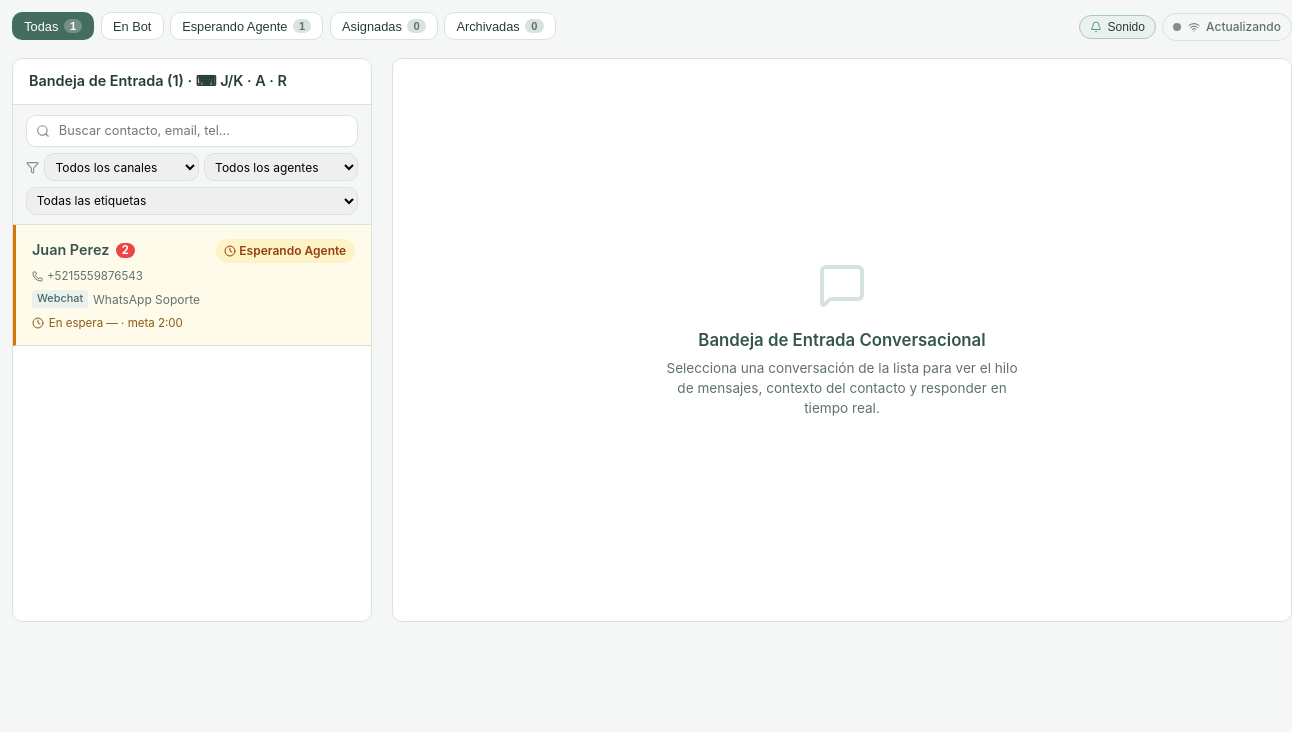
Test: ConversationsView Inbox Sound & Notification Controls › renders the sound toggle button in the inbox top bar and toggles mute state
# Click to mute
Click the button with test id "inbox-sound-toggle-btn".
click(1117, 27)  # box [1079,15,1156,39]
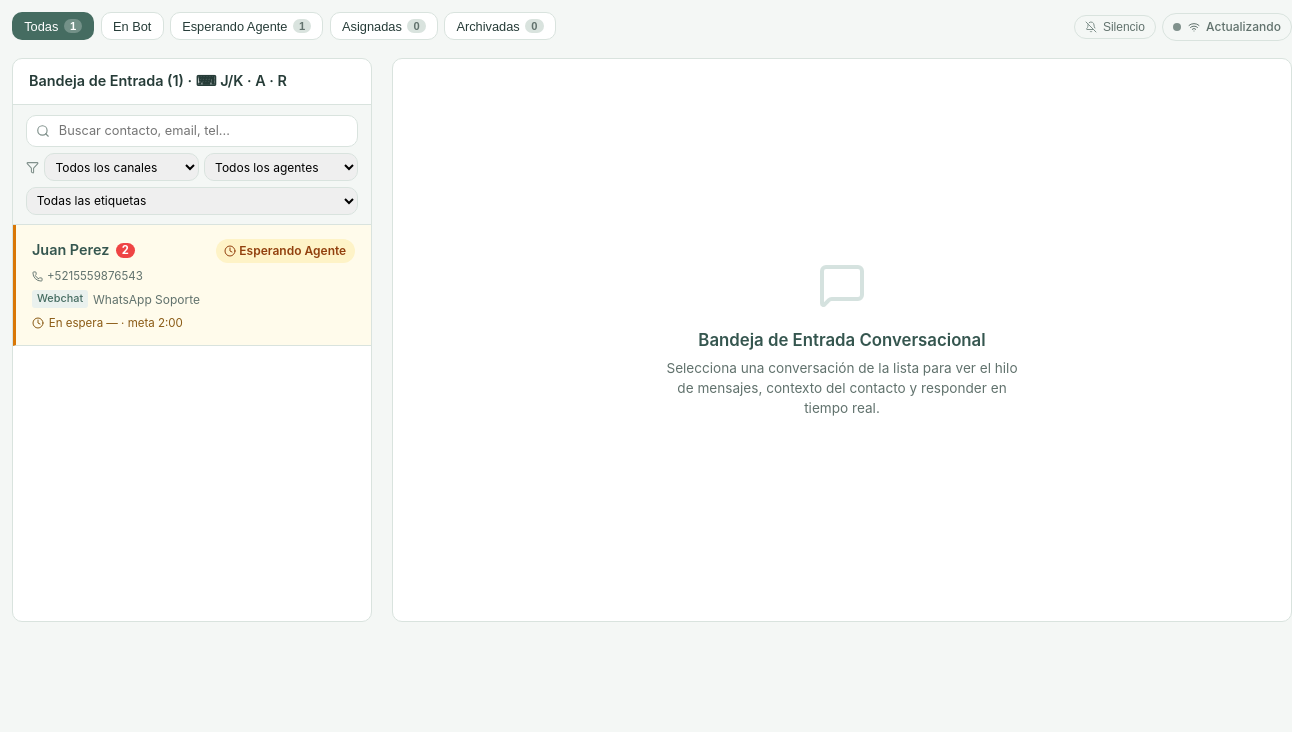
Expected: the button with test id "inbox-sound-toggle-btn" reads "Silencio"
# Click to re-enable
Click the button with test id "inbox-sound-toggle-btn".
click(1115, 27)  # box [1074,15,1156,39]
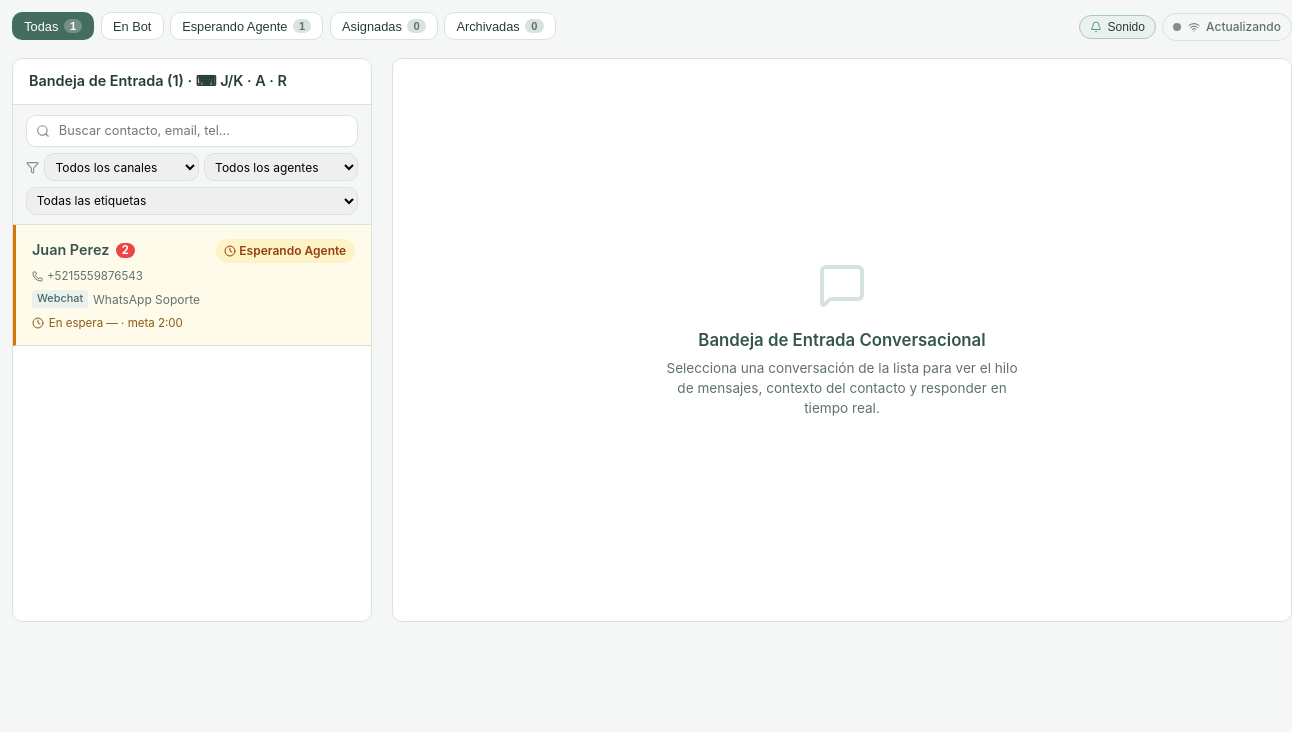
Expected: the button with test id "inbox-sound-toggle-btn" reads "Sonido", [1079,15,1156,39]
